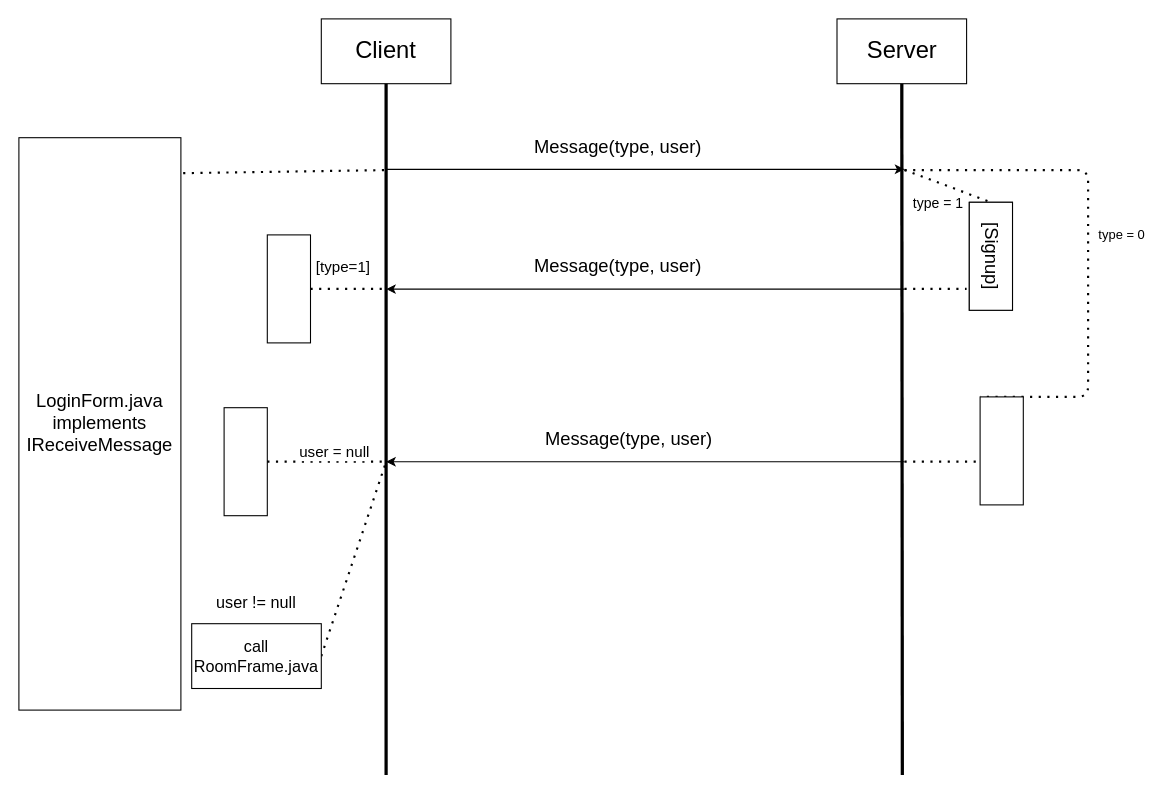
Some shapes in this 1163 by 796 pixel diagram are drawn without their labels. The box of each missing label's shape, as (x1, y1, x2, y2) in pixels:
[LoginFail]: (223, 407, 267, 516)
[Signin]: (979, 396, 1023, 505)
[Thông báo]: (266, 234, 310, 343)
